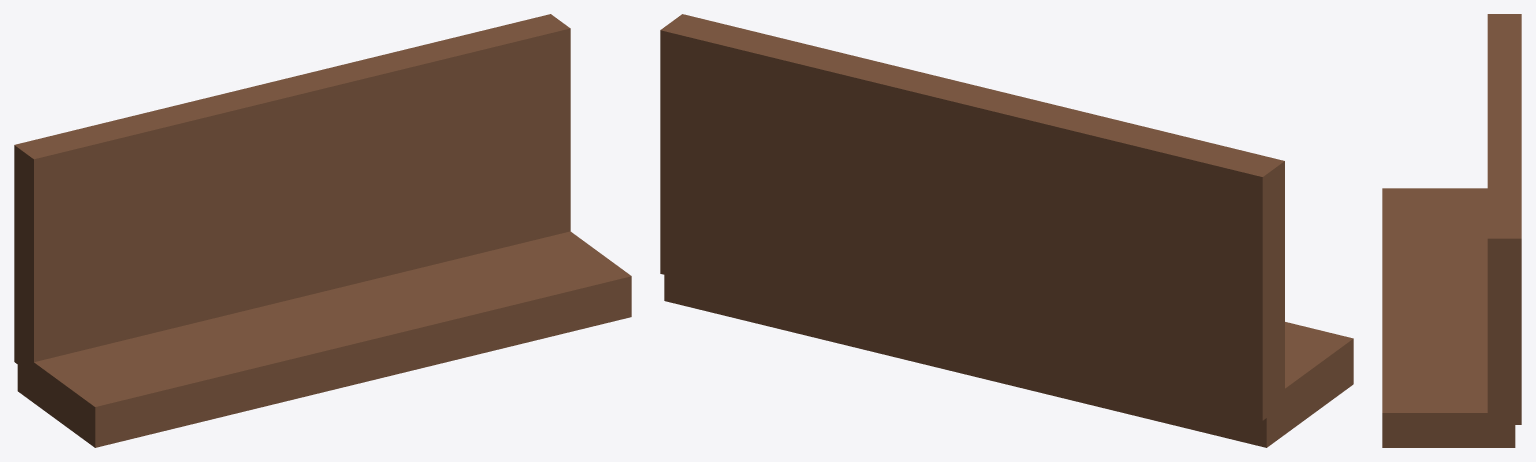
Rendered from bh_traditional_bench_01_lod0.glb.
3 renders of one model, left to right at view 1: azimuth 30°, elevation 25°; view 2: azimuth 150°, elevation 25°; view 3: azimuth 270°, elevation 25°, orthographic. The views are drawn at different scales.
Visible parts, largest first — view 1: bh_traditional_bench_01_back, bh_traditional_bench_01_seat; view 2: bh_traditional_bench_01_back, bh_traditional_bench_01_seat; view 3: bh_traditional_bench_01_seat, bh_traditional_bench_01_back.
Boxes of the visible parts, box(x1,y1,x2,y2) form: bh_traditional_bench_01_back: box(14, 14, 570, 375); bh_traditional_bench_01_seat: box(17, 231, 631, 447); bh_traditional_bench_01_back: box(660, 14, 1284, 420); bh_traditional_bench_01_seat: box(664, 275, 1353, 447); bh_traditional_bench_01_seat: box(1382, 188, 1515, 447); bh_traditional_bench_01_back: box(1487, 14, 1521, 424).
Bounding box in the file's own units: 2.2 × 0.955 × 0.575.
